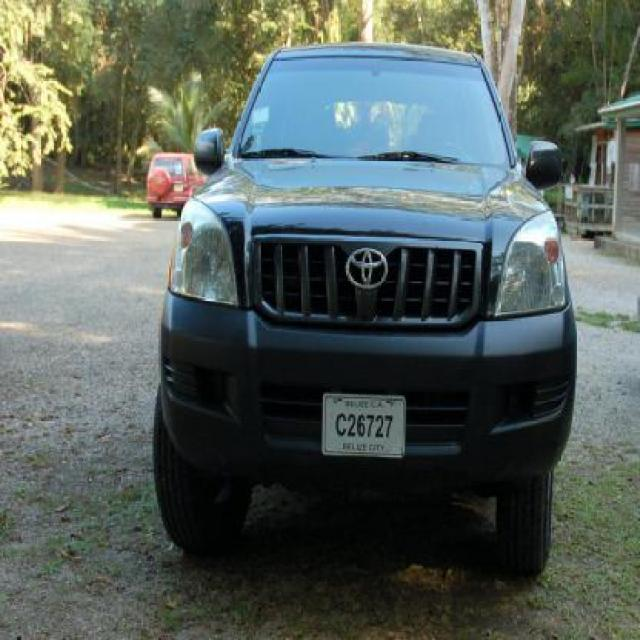License-Plates: (319, 389, 411, 458)
